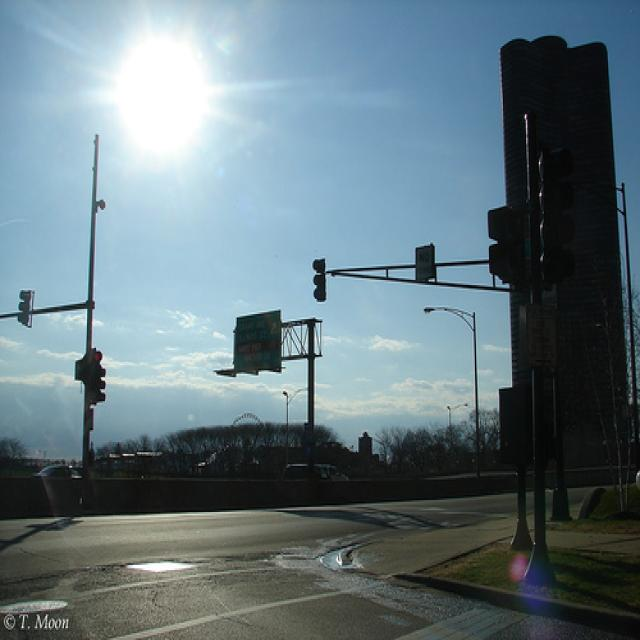Vehicle: (282, 464, 350, 482), (36, 463, 81, 476)
